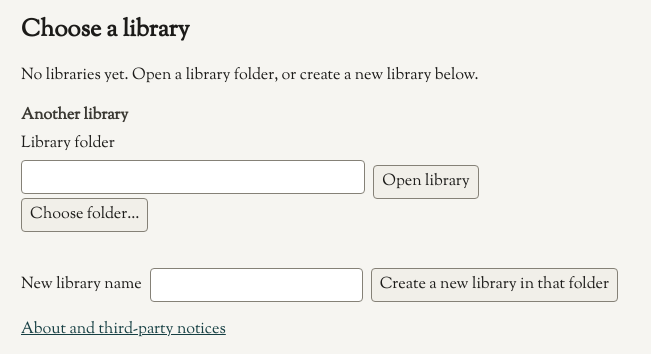
LibraryChooser in the desktop shell › a cancelled picker leaves the field as it was; a failed one says so
Type "/typed" into the field labelled "Library folder".
click(193, 177); type("/typed")  # box [21, 160, 365, 194]
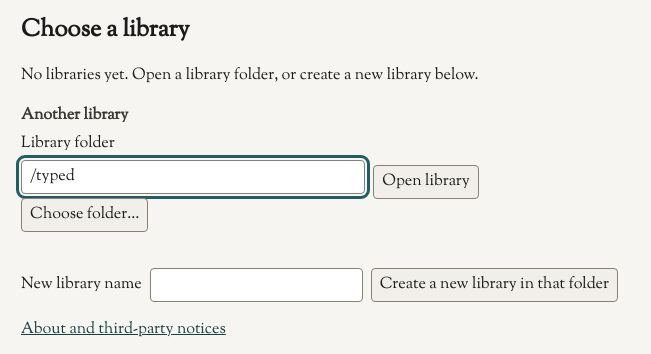
Click the button "Choose folder…".
click(85, 215)  # box [21, 198, 148, 232]
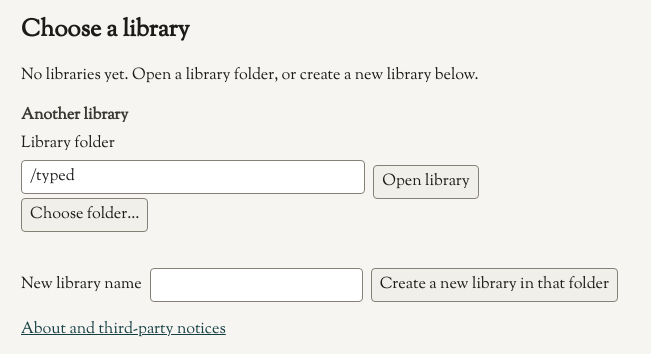
Click the button "Choose folder…".
click(85, 215)  # box [21, 198, 148, 232]
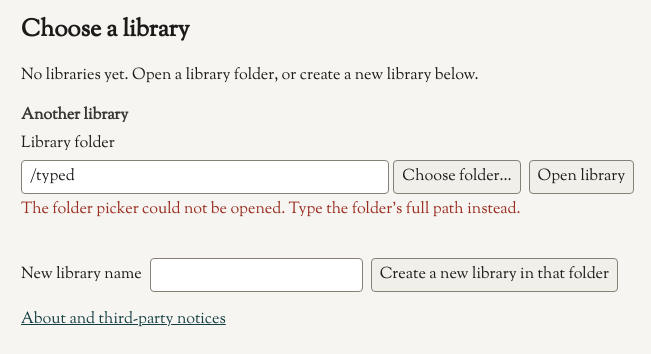
Result: the message "The folder picker could not be opened. Type the folder's full path instead." is shown at [21, 198, 521, 222]
